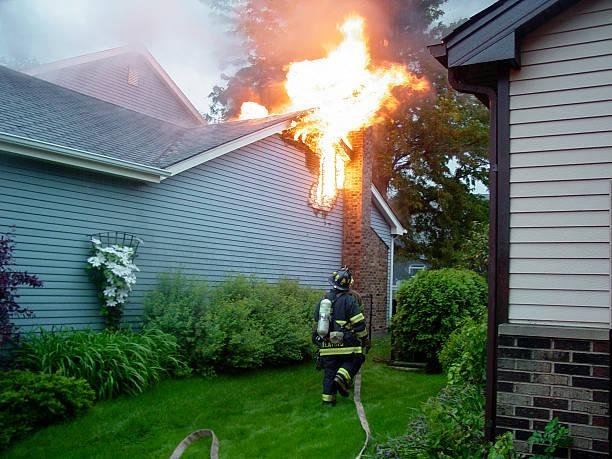Fire: (265, 10, 447, 199)
